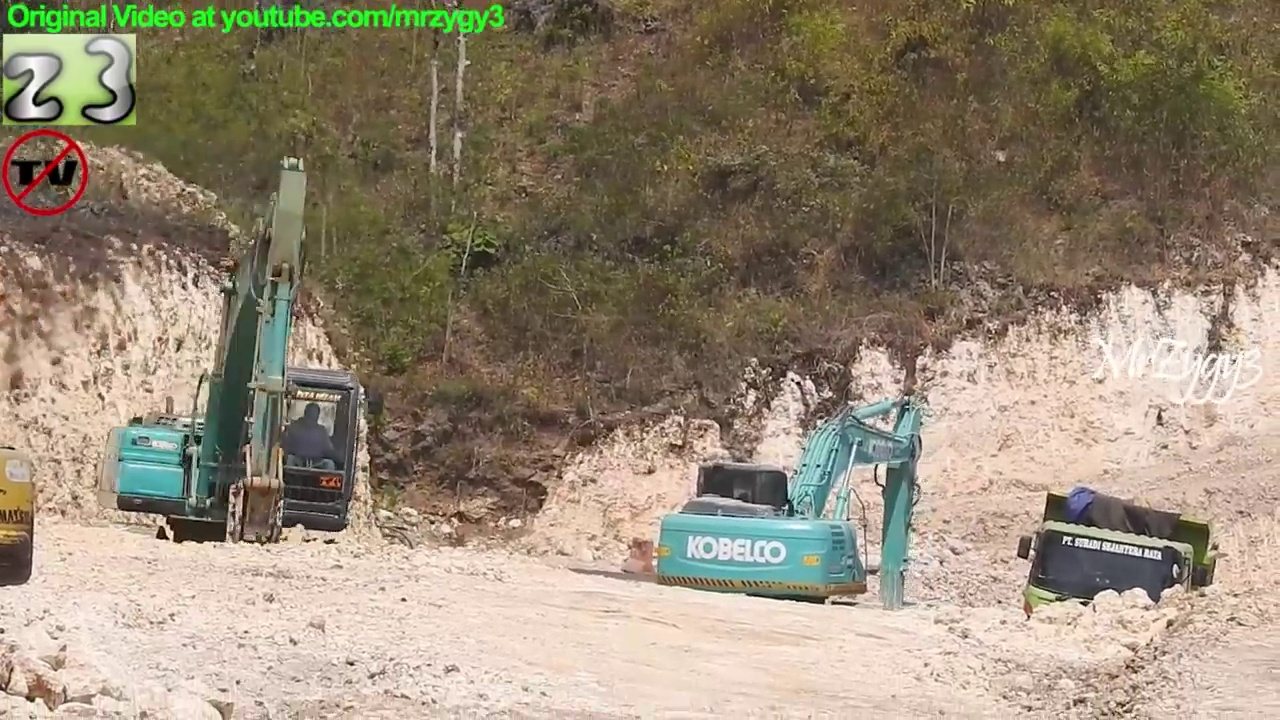excavator: (95, 152, 369, 593), (648, 388, 933, 658), (1, 443, 40, 593)
truck: (1010, 483, 1231, 688)
